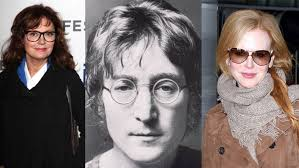Glasses: (101, 74, 188, 110), (225, 46, 275, 68), (19, 29, 59, 45)
